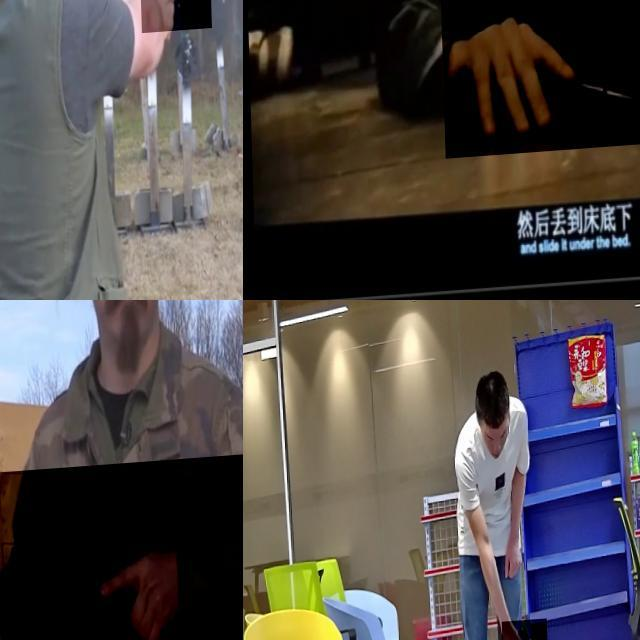gun-knife-thesis - v11 Yolov5 augmented: (0, 461, 243, 640), (438, 0, 640, 161), (138, 0, 210, 47), (499, 625, 545, 640)
